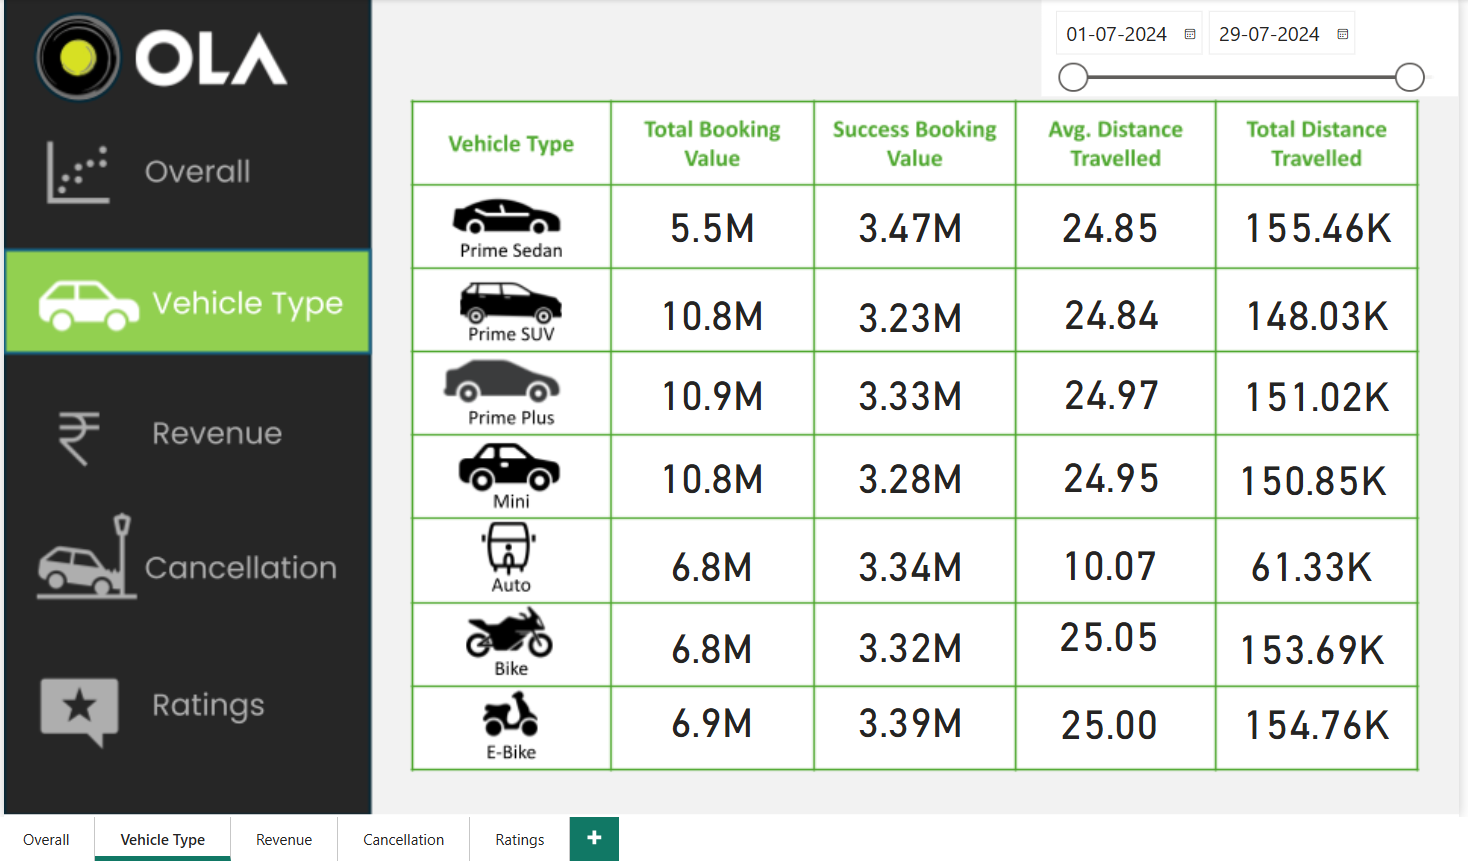

Layout of this report page (visuals, bound fields, positions):
{"tool":"powerbi","page":{"name":"Vehicle Type","canvas":[1280,720],"ordinal":1},"visuals":[{"type":"actionButton","box":[162.1,345.6,240.4,64],"z":0},{"type":"actionButton","box":[162.1,419.6,240.4,76.8],"z":1},{"type":"actionButton","box":[162.1,527.6,240.4,62.6],"z":2},{"type":"actionButton","box":[162.1,176.4,240.4,65.4],"z":3},{"type":"card","fields":{"Values":["Sum(July.Booking_Value)"]},"box":[563.2,176.4,119.5,44.1],"z":4},{"type":"card","fields":{"Values":["Sum(July.Booking_Value)"]},"box":[563.2,546.1,119.5,44.1],"z":5},{"type":"card","fields":{"Values":["Sum(July.Booking_Value)"]},"box":[563.2,253.2,119.5,44.1],"z":6},{"type":"card","fields":{"Values":["Sum(July.Booking_Value)"]},"box":[563.2,473.6,119.5,44.1],"z":7},{"type":"card","fields":{"Values":["Sum(July.Booking_Value)"]},"box":[563.2,611.6,119.5,44.1],"z":8},{"type":"card","fields":{"Values":["Sum(July.Booking_Value)"]},"box":[563.2,322.8,119.5,44.1],"z":9},{"type":"card","fields":{"Values":["Sum(July.Booking_Value)"]},"box":[563.2,396.8,119.5,44.1],"z":10},{"type":"card","fields":{"Values":["Sum(July.Booking_Value)"]},"box":[738.1,176.4,119.5,44.1],"z":11},{"type":"card","fields":{"Values":["Sum(July.Booking_Value)"]},"box":[738.1,254.6,119.5,44.1],"z":12},{"type":"card","fields":{"Values":["Sum(July.Booking_Value)"]},"box":[738.1,322.8,119.5,44.1],"z":13},{"type":"card","fields":{"Values":["Sum(July.Booking_Value)"]},"box":[738.1,396.8,119.5,44.1],"z":14},{"type":"card","fields":{"Values":["Sum(July.Booking_Value)"]},"box":[738.1,473.6,119.5,44.1],"z":15},{"type":"card","fields":{"Values":["Sum(July.Booking_Value)"]},"box":[738.1,544.7,119.5,45.5],"z":16},{"type":"card","fields":{"Values":["Sum(July.Booking_Value)"]},"box":[738.1,611.6,119.5,44.1],"z":17},{"type":"card","fields":{"Values":["Avg(July.Ride_Distance)"]},"box":[895.2,176.2,156.6,44.5],"z":18},{"type":"card","fields":{"Values":["Avg(July.Ride_Distance)"]},"box":[914.8,252.7,119.2,42.7],"z":19},{"type":"card","fields":{"Values":["Avg(July.Ride_Distance)"]},"box":[914.8,322.1,119.2,44.5],"z":20},{"type":"card","fields":{"Values":["Avg(July.Ride_Distance)"]},"box":[914.8,396.9,119.2,42.7],"z":21},{"type":"card","fields":{"Values":["Avg(July.Ride_Distance)"]},"box":[913,473.4,119.2,42.7],"z":22},{"type":"card","fields":{"Values":["Avg(July.Ride_Distance)"]},"box":[913,535.7,119.2,44.5],"z":23},{"type":"card","fields":{"Values":["Avg(July.Ride_Distance)"]},"box":[913,612.2,119.2,44.5],"z":24},{"type":"card","fields":{"Values":["Sum(July.Ride_Distance)"]},"box":[1075,176.2,160.2,44.5],"z":25},{"type":"card","fields":{"Values":["Sum(July.Ride_Distance)"]},"box":[1083.9,252.7,140.6,44.5],"z":26},{"type":"card","fields":{"Values":["Sum(July.Ride_Distance)"]},"box":[1083.9,323.9,140.6,44.5],"z":27},{"type":"card","fields":{"Values":["Sum(July.Ride_Distance)"]},"box":[1075,398.7,151.3,42.7],"z":28},{"type":"card","fields":{"Values":["Sum(July.Ride_Distance)"]},"box":[1075,473.4,149.5,44.5],"z":29},{"type":"card","fields":{"Values":["Sum(July.Ride_Distance)"]},"box":[1075,546.4,149.5,44.5],"z":30},{"type":"card","fields":{"Values":["Sum(July.Ride_Distance)"]},"box":[1083.9,612.2,140.6,44.5],"z":31},{"type":"slicer","title":"Date","fields":{"Values":["July.Date"]},"box":[913,0,366.6,85.4],"z":32}]}

Visuals, with their boxes on the page's 1280x720 design canvas (x1, y1, x2, y2). These are canvas units, not pixel positions in the 1468x861 screenshot, which may show the page scaled, cropped or inside an application window:
actionButton: [162, 346, 402, 410]
actionButton: [162, 420, 402, 496]
actionButton: [162, 528, 402, 590]
actionButton: [162, 176, 402, 242]
card - Sum(July.Booking_Value): [563, 176, 683, 220]
card - Sum(July.Booking_Value): [563, 546, 683, 590]
card - Sum(July.Booking_Value): [563, 253, 683, 297]
card - Sum(July.Booking_Value): [563, 474, 683, 518]
card - Sum(July.Booking_Value): [563, 612, 683, 656]
card - Sum(July.Booking_Value): [563, 323, 683, 367]
card - Sum(July.Booking_Value): [563, 397, 683, 441]
card - Sum(July.Booking_Value): [738, 176, 858, 220]
card - Sum(July.Booking_Value): [738, 255, 858, 299]
card - Sum(July.Booking_Value): [738, 323, 858, 367]
card - Sum(July.Booking_Value): [738, 397, 858, 441]
card - Sum(July.Booking_Value): [738, 474, 858, 518]
card - Sum(July.Booking_Value): [738, 545, 858, 590]
card - Sum(July.Booking_Value): [738, 612, 858, 656]
card - Avg(July.Ride_Distance): [895, 176, 1052, 221]
card - Avg(July.Ride_Distance): [915, 253, 1034, 295]
card - Avg(July.Ride_Distance): [915, 322, 1034, 367]
card - Avg(July.Ride_Distance): [915, 397, 1034, 440]
card - Avg(July.Ride_Distance): [913, 473, 1032, 516]
card - Avg(July.Ride_Distance): [913, 536, 1032, 580]
card - Avg(July.Ride_Distance): [913, 612, 1032, 657]
card - Sum(July.Ride_Distance): [1075, 176, 1235, 221]
card - Sum(July.Ride_Distance): [1084, 253, 1224, 297]
card - Sum(July.Ride_Distance): [1084, 324, 1224, 368]
card - Sum(July.Ride_Distance): [1075, 399, 1226, 441]
card - Sum(July.Ride_Distance): [1075, 473, 1224, 518]
card - Sum(July.Ride_Distance): [1075, 546, 1224, 591]
card - Sum(July.Ride_Distance): [1084, 612, 1224, 657]
"Date" slicer: [913, 0, 1280, 85]
